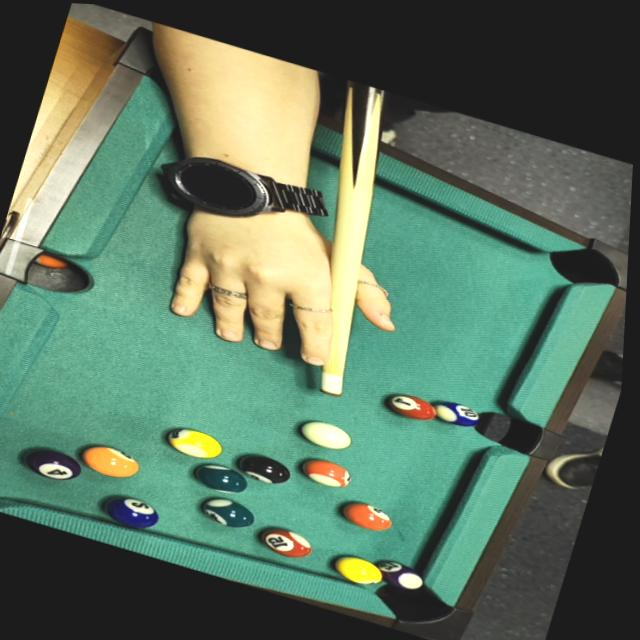cue ball: (290, 411, 354, 457)
other: (73, 438, 146, 486), (158, 421, 230, 468), (14, 439, 84, 487), (185, 456, 256, 502), (97, 489, 164, 535), (232, 446, 299, 491), (321, 547, 386, 591), (366, 552, 429, 596), (197, 492, 260, 536), (254, 522, 315, 565), (377, 385, 440, 426), (295, 453, 358, 494), (334, 495, 395, 535), (425, 392, 484, 433)
